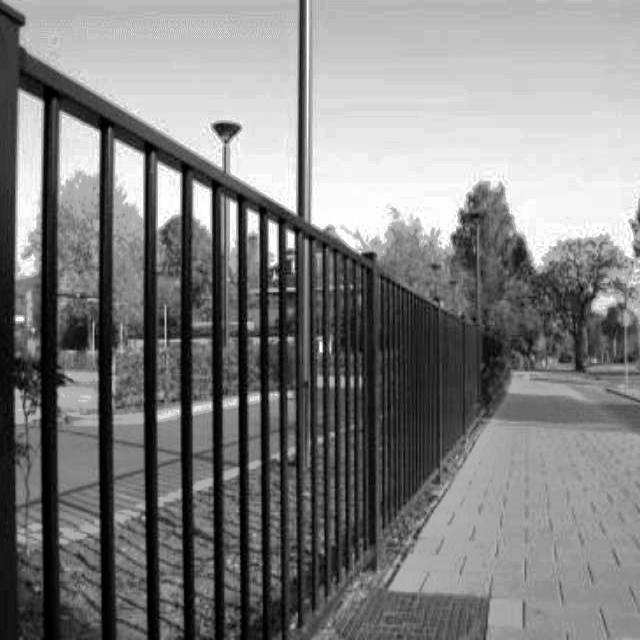fences: (5, 215, 323, 632), (337, 272, 500, 564)
